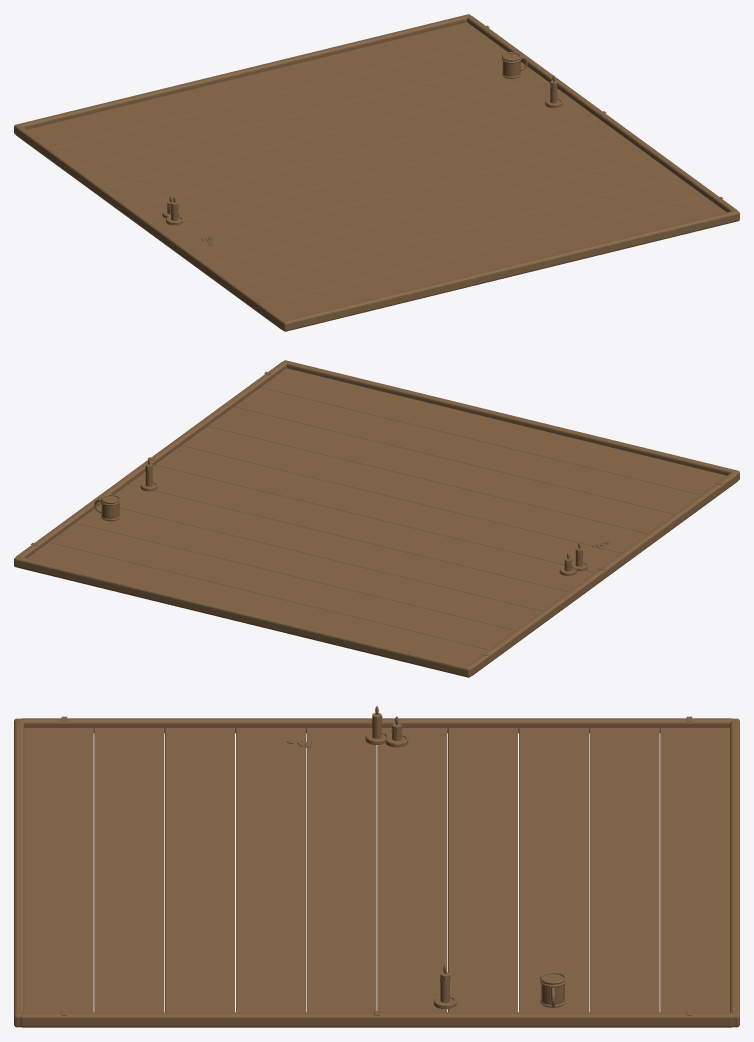
File: arena-table.glb
3 renders of one model, top to bottom at view 1: azimuth 30°, elevation 25°; view 2: azimuth 150°, elevation 25°; view 3: azimuth 270°, elevation 25°, orthographic. The views are drawn at different scales.
Visible parts, largest first — view 1: Old oak plank.001, Old oak plank, Old oak plank.002, Old oak plank.003; view 2: Old oak plank.001, Old oak plank, Old oak plank.002, Old oak plank.003; view 3: Old oak plank, Old oak plank.001, Old oak plank.002, Old oak plank.003, Beeswax candle, Candle saucer, Forged nail.
Part boxes in pixels (left/top/right/bottom): Old oak plank.001: left=14, top=14, right=739, bottom=331; Old oak plank: left=15, top=15, right=737, bottom=329; Old oak plank.002: left=106, top=54, right=677, bottom=284; Old oak plank.003: left=80, top=62, right=651, bottom=264; Old oak plank.001: left=14, top=360, right=739, bottom=677; Old oak plank: left=16, top=361, right=738, bottom=675; Old oak plank.002: left=101, top=407, right=673, bottom=610; Old oak plank.003: left=76, top=426, right=647, bottom=630; Old oak plank: left=20, top=718, right=733, bottom=1027; Old oak plank.001: left=14, top=718, right=739, bottom=1027; Old oak plank.002: left=165, top=728, right=564, bottom=1012; Old oak plank.003: left=236, top=728, right=588, bottom=1012; Beeswax candle: left=372, top=713, right=450, bottom=1002; Candle saucer: left=287, top=732, right=456, bottom=1009; Forged nail: left=37, top=714, right=716, bottom=1015.
Size of the model in its own units: 24.85 by 1.82 by 25.55.
